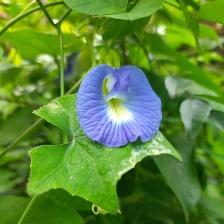shankupushpam: (76, 62, 166, 150)
